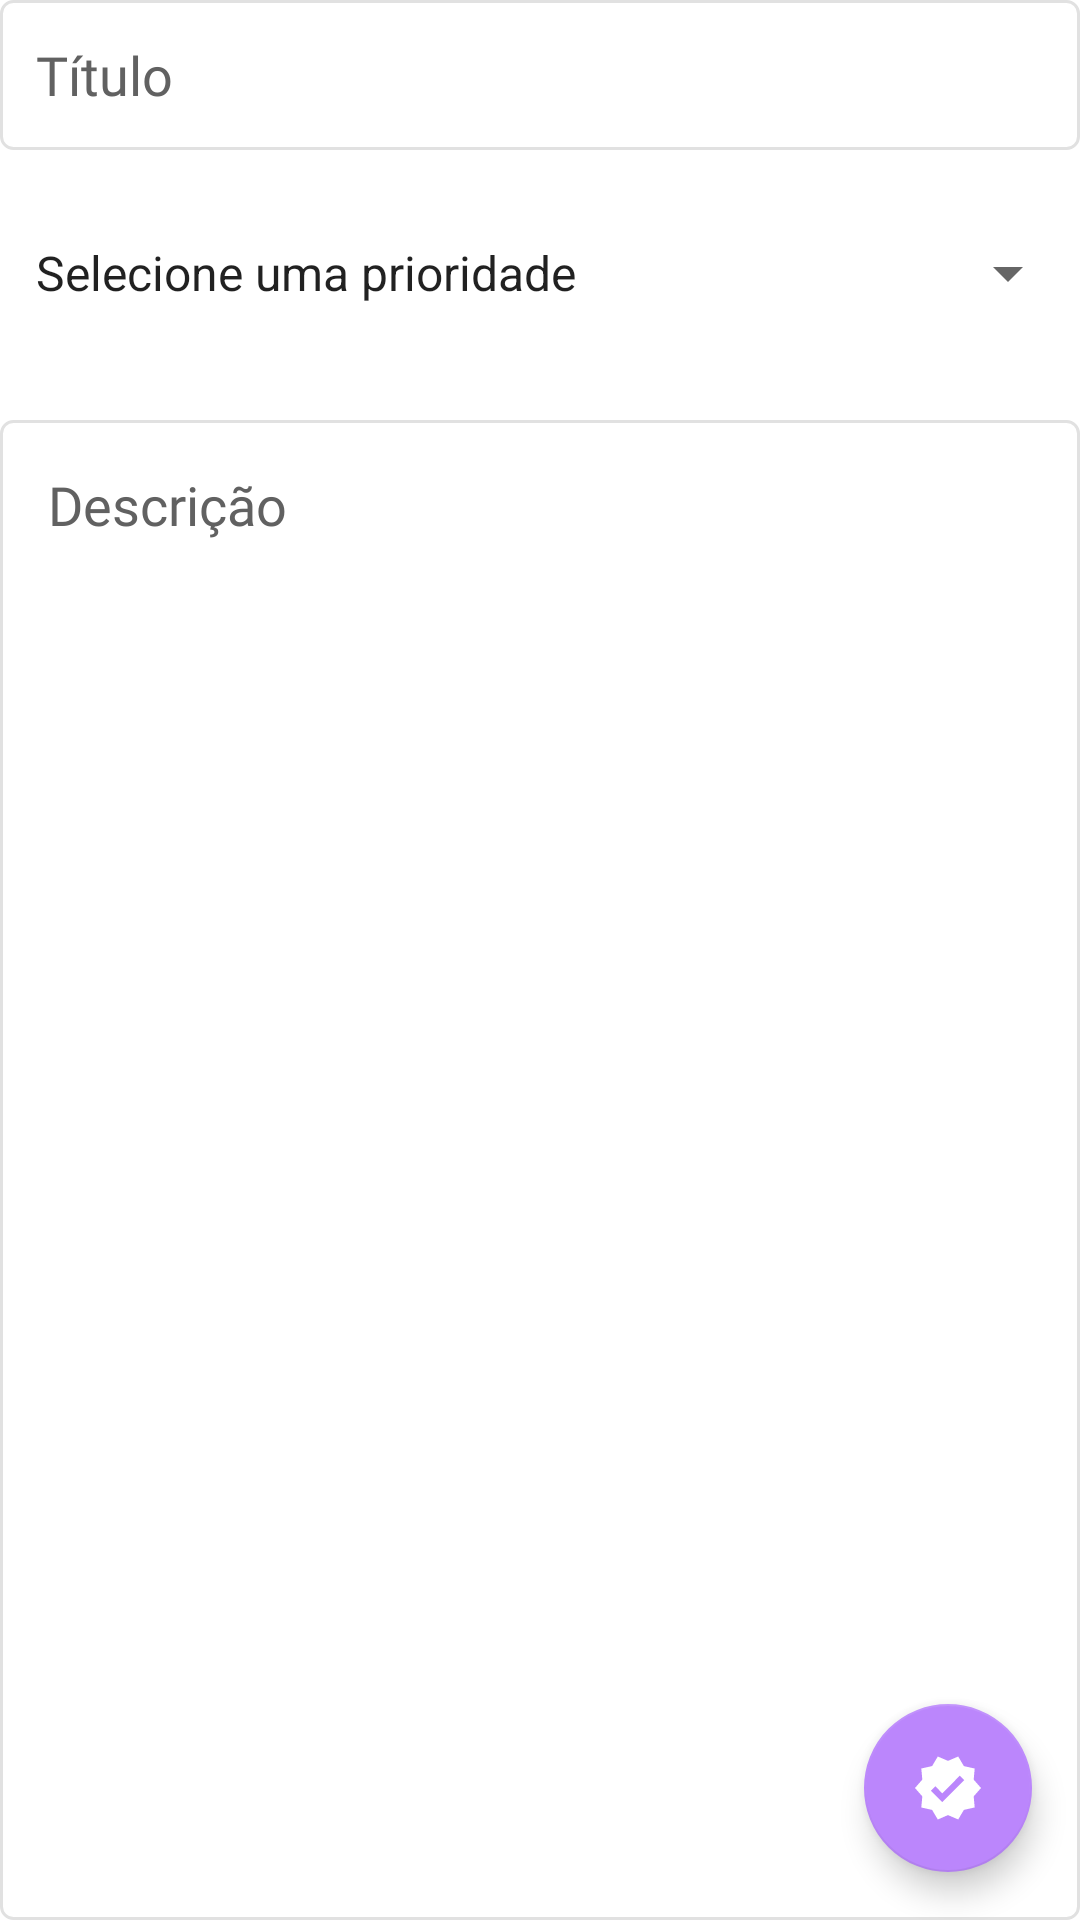

Named icons in this screenshot (1080×1920) and their centers, (x=x, y=y):
validade: (x=948, y=1788)
